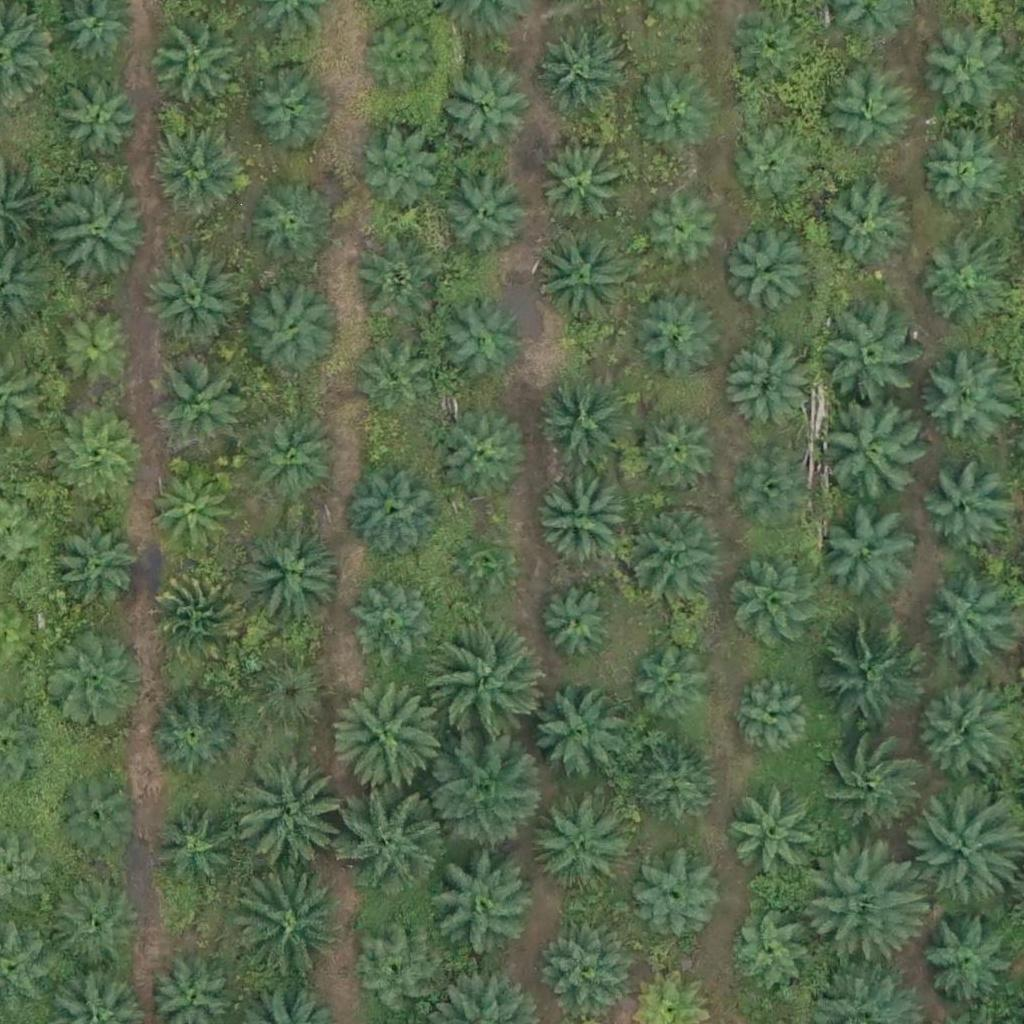Kelapa_Sawit: (231, 760, 344, 874), (814, 398, 927, 512), (426, 737, 539, 850), (427, 847, 540, 960), (337, 783, 450, 896), (333, 679, 446, 792), (227, 874, 340, 987), (814, 622, 926, 736), (433, 627, 545, 741), (806, 842, 918, 955), (810, 729, 922, 842), (914, 903, 1014, 1004), (826, 503, 926, 604), (725, 787, 825, 888), (620, 503, 720, 604), (529, 791, 629, 892), (347, 463, 447, 564), (239, 520, 339, 621), (49, 401, 149, 502), (52, 177, 152, 278), (148, 349, 248, 450), (151, 123, 251, 224), (241, 272, 341, 373), (239, 405, 339, 506), (533, 231, 633, 332), (536, 371, 636, 472), (811, 181, 911, 282), (826, 306, 926, 407), (916, 18, 1016, 119), (909, 685, 1009, 785), (534, 470, 634, 570), (528, 686, 628, 786), (43, 632, 143, 732), (152, 567, 252, 667), (143, 251, 243, 351), (917, 344, 1017, 444), (727, 673, 815, 762), (919, 463, 1007, 551), (920, 579, 1008, 667), (735, 563, 823, 651), (629, 636, 717, 724), (241, 653, 329, 741), (53, 769, 141, 857), (146, 799, 234, 887), (350, 584, 438, 672), (146, 469, 234, 557), (151, 692, 239, 780), (246, 63, 334, 151), (247, 183, 335, 271), (361, 127, 449, 215), (354, 241, 442, 329), (439, 70, 527, 158), (443, 171, 531, 259), (435, 300, 523, 388), (537, 30, 625, 118), (733, 9, 821, 97), (820, 69, 908, 157), (918, 134, 1006, 222), (53, 78, 140, 167), (632, 741, 719, 829), (727, 911, 814, 999), (542, 921, 629, 1009), (629, 852, 716, 940), (354, 930, 441, 1018), (46, 520, 133, 608), (52, 878, 139, 966), (54, 300, 141, 388), (151, 21, 238, 109), (352, 336, 439, 424), (355, 18, 442, 106), (442, 416, 529, 504), (540, 144, 627, 232), (635, 408, 722, 496), (635, 290, 722, 378), (642, 186, 729, 274), (630, 63, 717, 151), (729, 126, 816, 214), (728, 235, 815, 323), (725, 343, 812, 431), (917, 241, 1004, 329), (539, 586, 614, 662), (739, 453, 814, 529), (450, 530, 512, 593)
